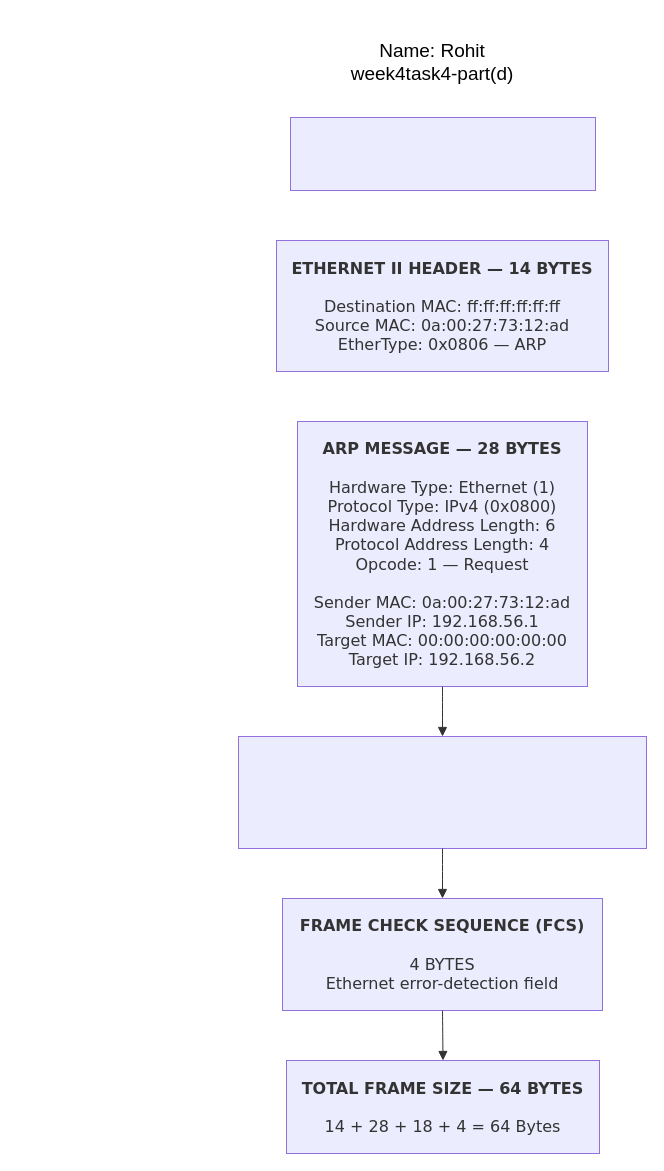
Some shapes in this 664 by 1171 pixel diagram are drawn without their labels. The centre of each missing label's shape, as x and y in pixels:
ETHERNET PADDING 18 BYTES Added to reach the minimum Ethernet frame size: the point at 442,792
PART (d) — FIRST ARP PACKET ARP Request Encapsulation: the point at 443,153
